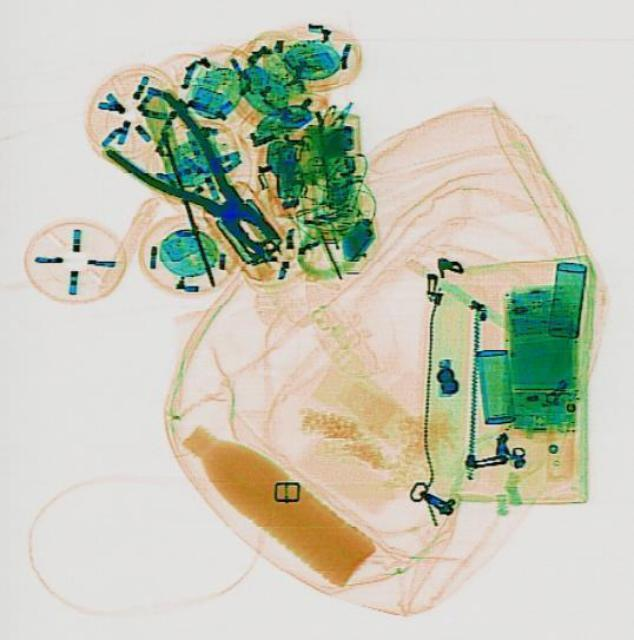Pliers: (95, 85, 302, 278)
